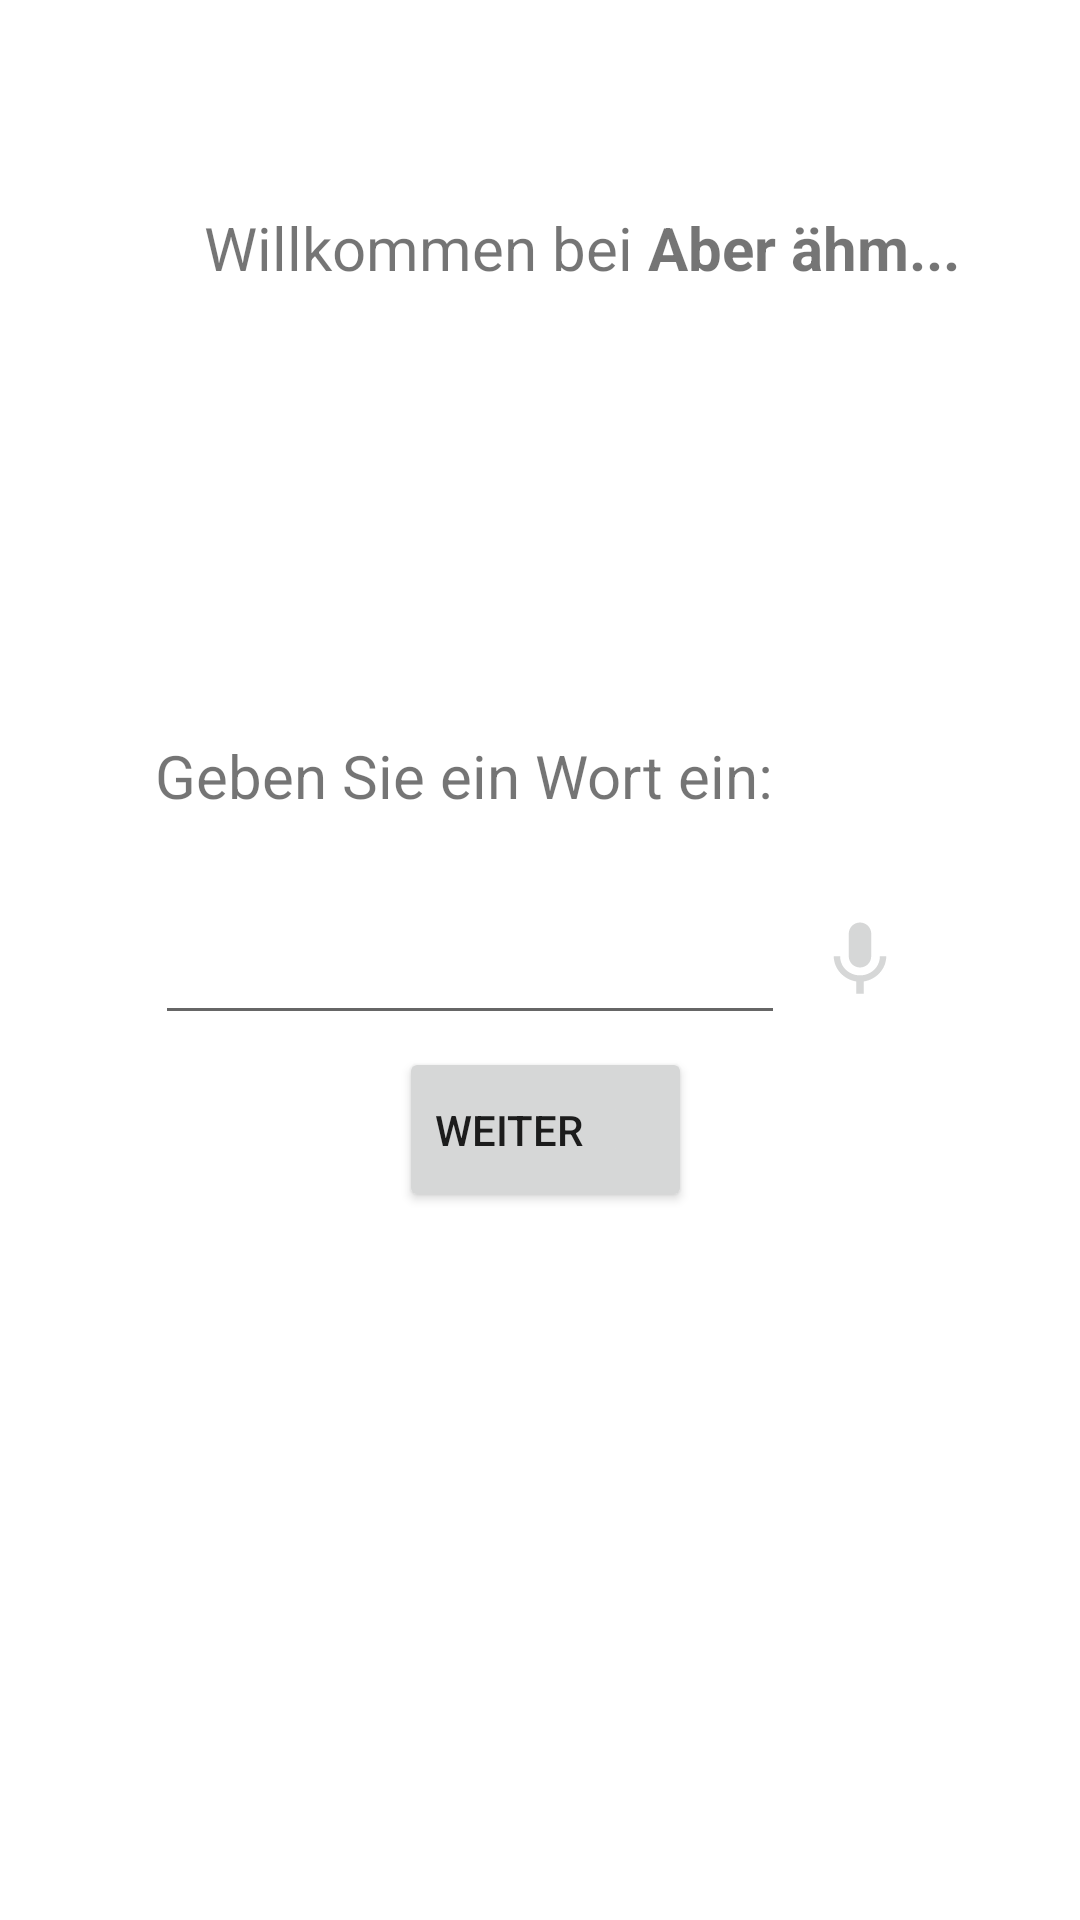

Icon click points for this 1080x1920 phone screenshot, format (x,y):
mic: (860,958)
